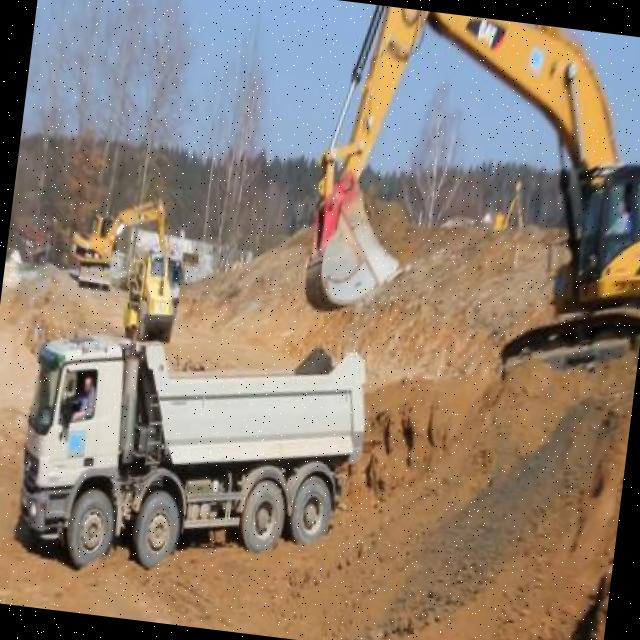Dump Truck: (9, 310, 375, 600), (159, 254, 185, 322)
Excavator: (292, 0, 640, 396), (64, 185, 176, 296)
